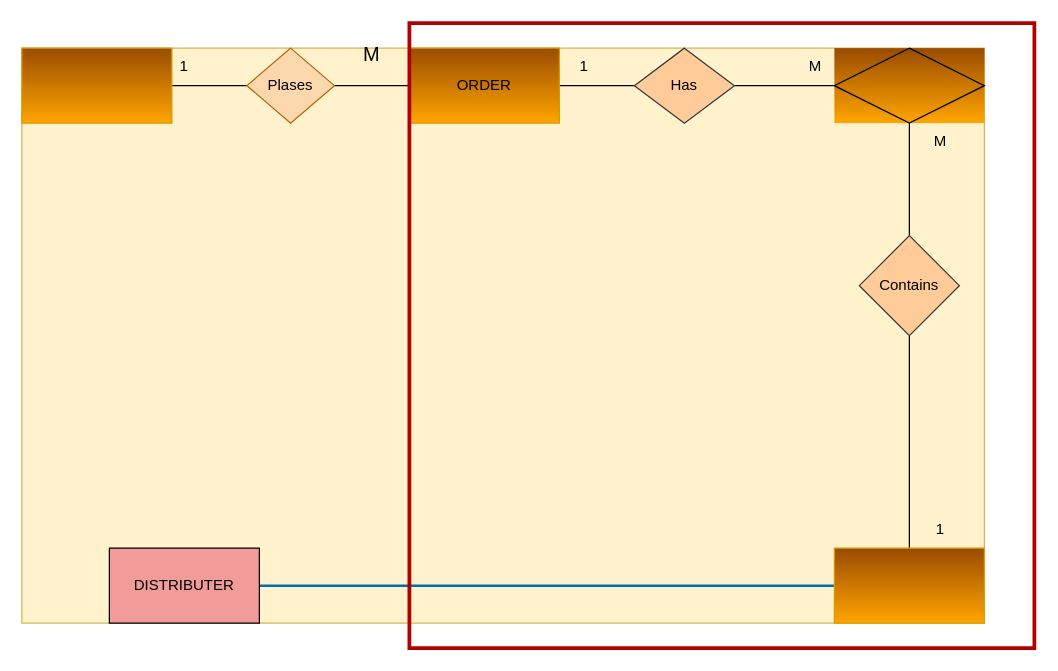
This 1058x671 diagram has some shape labels left out. Each missing label, with the box of its shape:
CUSTOMER: (21, 47, 172, 123)
ORDER LINE: (833, 47, 984, 123)
PRODUCT: (833, 547, 984, 623)
